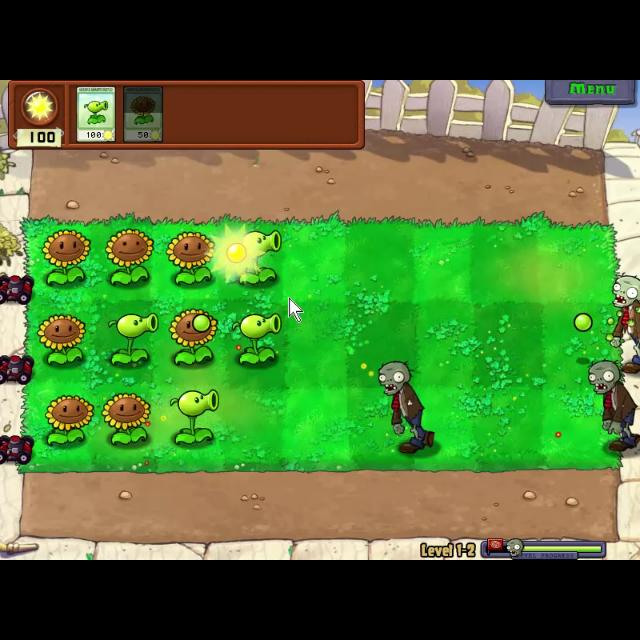Garden: (18, 214, 624, 472)
Menu Button: (545, 80, 637, 108)
Mower: (1, 352, 36, 386), (1, 270, 34, 306), (1, 432, 34, 468)
Peashooter: (74, 81, 116, 145)
Peashooter Seed: (164, 386, 228, 448), (233, 226, 289, 288), (228, 310, 284, 368), (105, 313, 161, 369)
Seed Panel: (6, 80, 370, 152)
Sun: (207, 223, 267, 284)
Sunflower: (122, 83, 164, 143)
Sunflower Seed: (35, 393, 95, 451), (101, 224, 153, 288), (166, 307, 218, 368), (163, 230, 219, 286), (33, 312, 89, 368), (102, 390, 152, 448), (43, 228, 89, 286)
Zombie: (372, 356, 442, 456), (584, 360, 640, 450), (608, 273, 640, 379)
